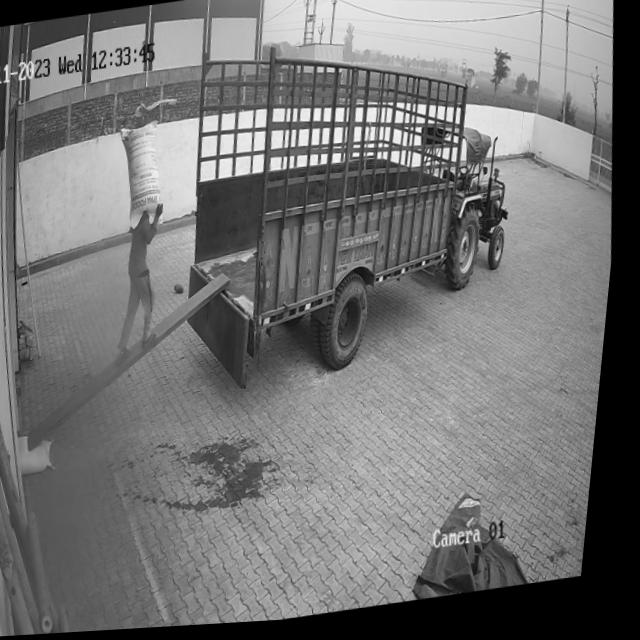sack: (116, 122, 171, 230), (23, 432, 63, 478)
